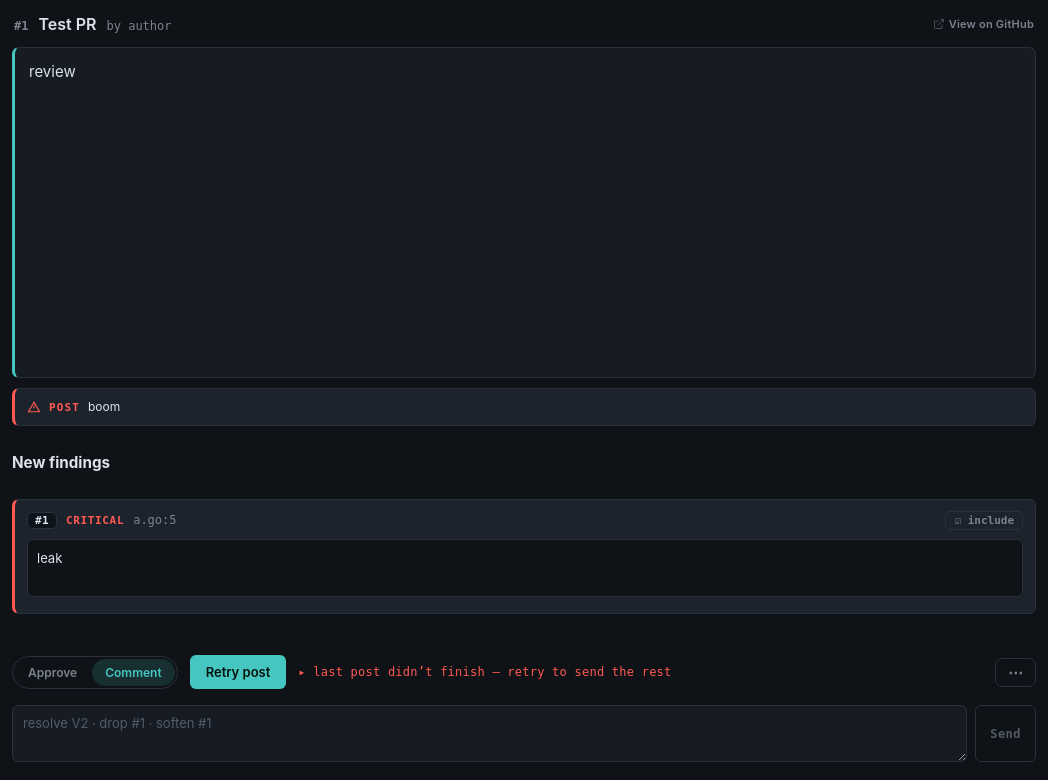
Test: Detail — locked draft (postProgress carries an unposted pending review) › leaves the feedback Send control gated only by empty text once the review has been submitted
Expected: the button "Send" is disabled, [975,705,1036,762]
In the text box with placeholder "resolve V2 · drop #1 · soften #1": (490, 734) [12,705,967,762], type "one more pass"
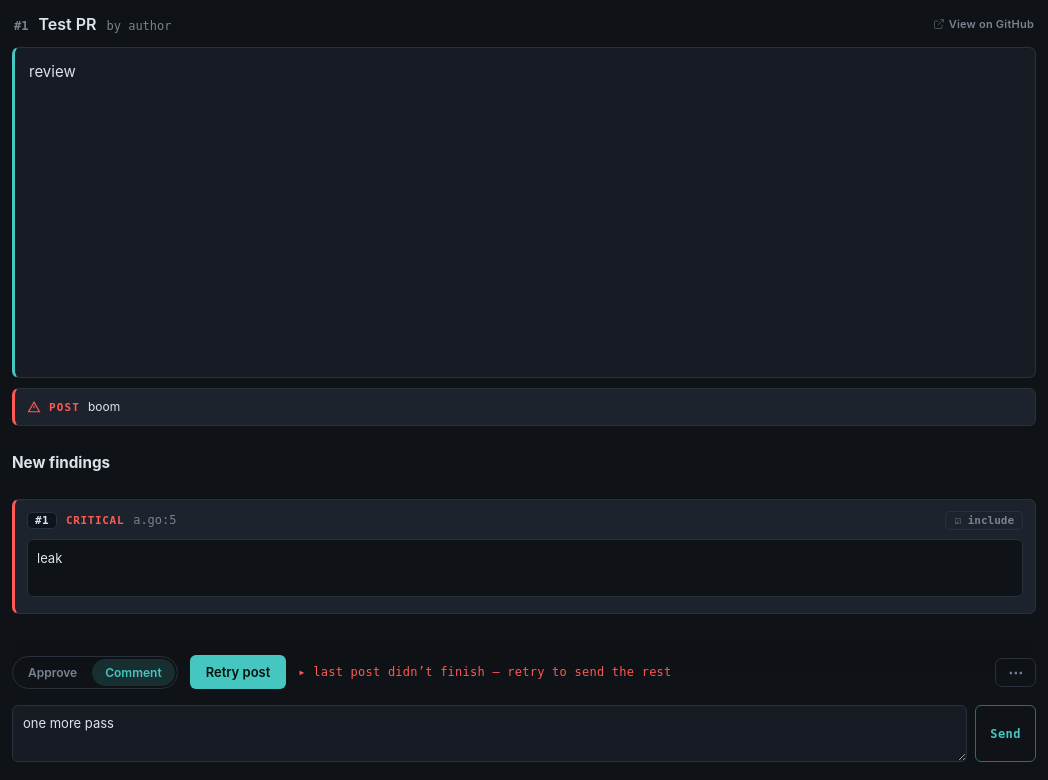
Expected: the button "Send" is enabled, [975,705,1036,762]
